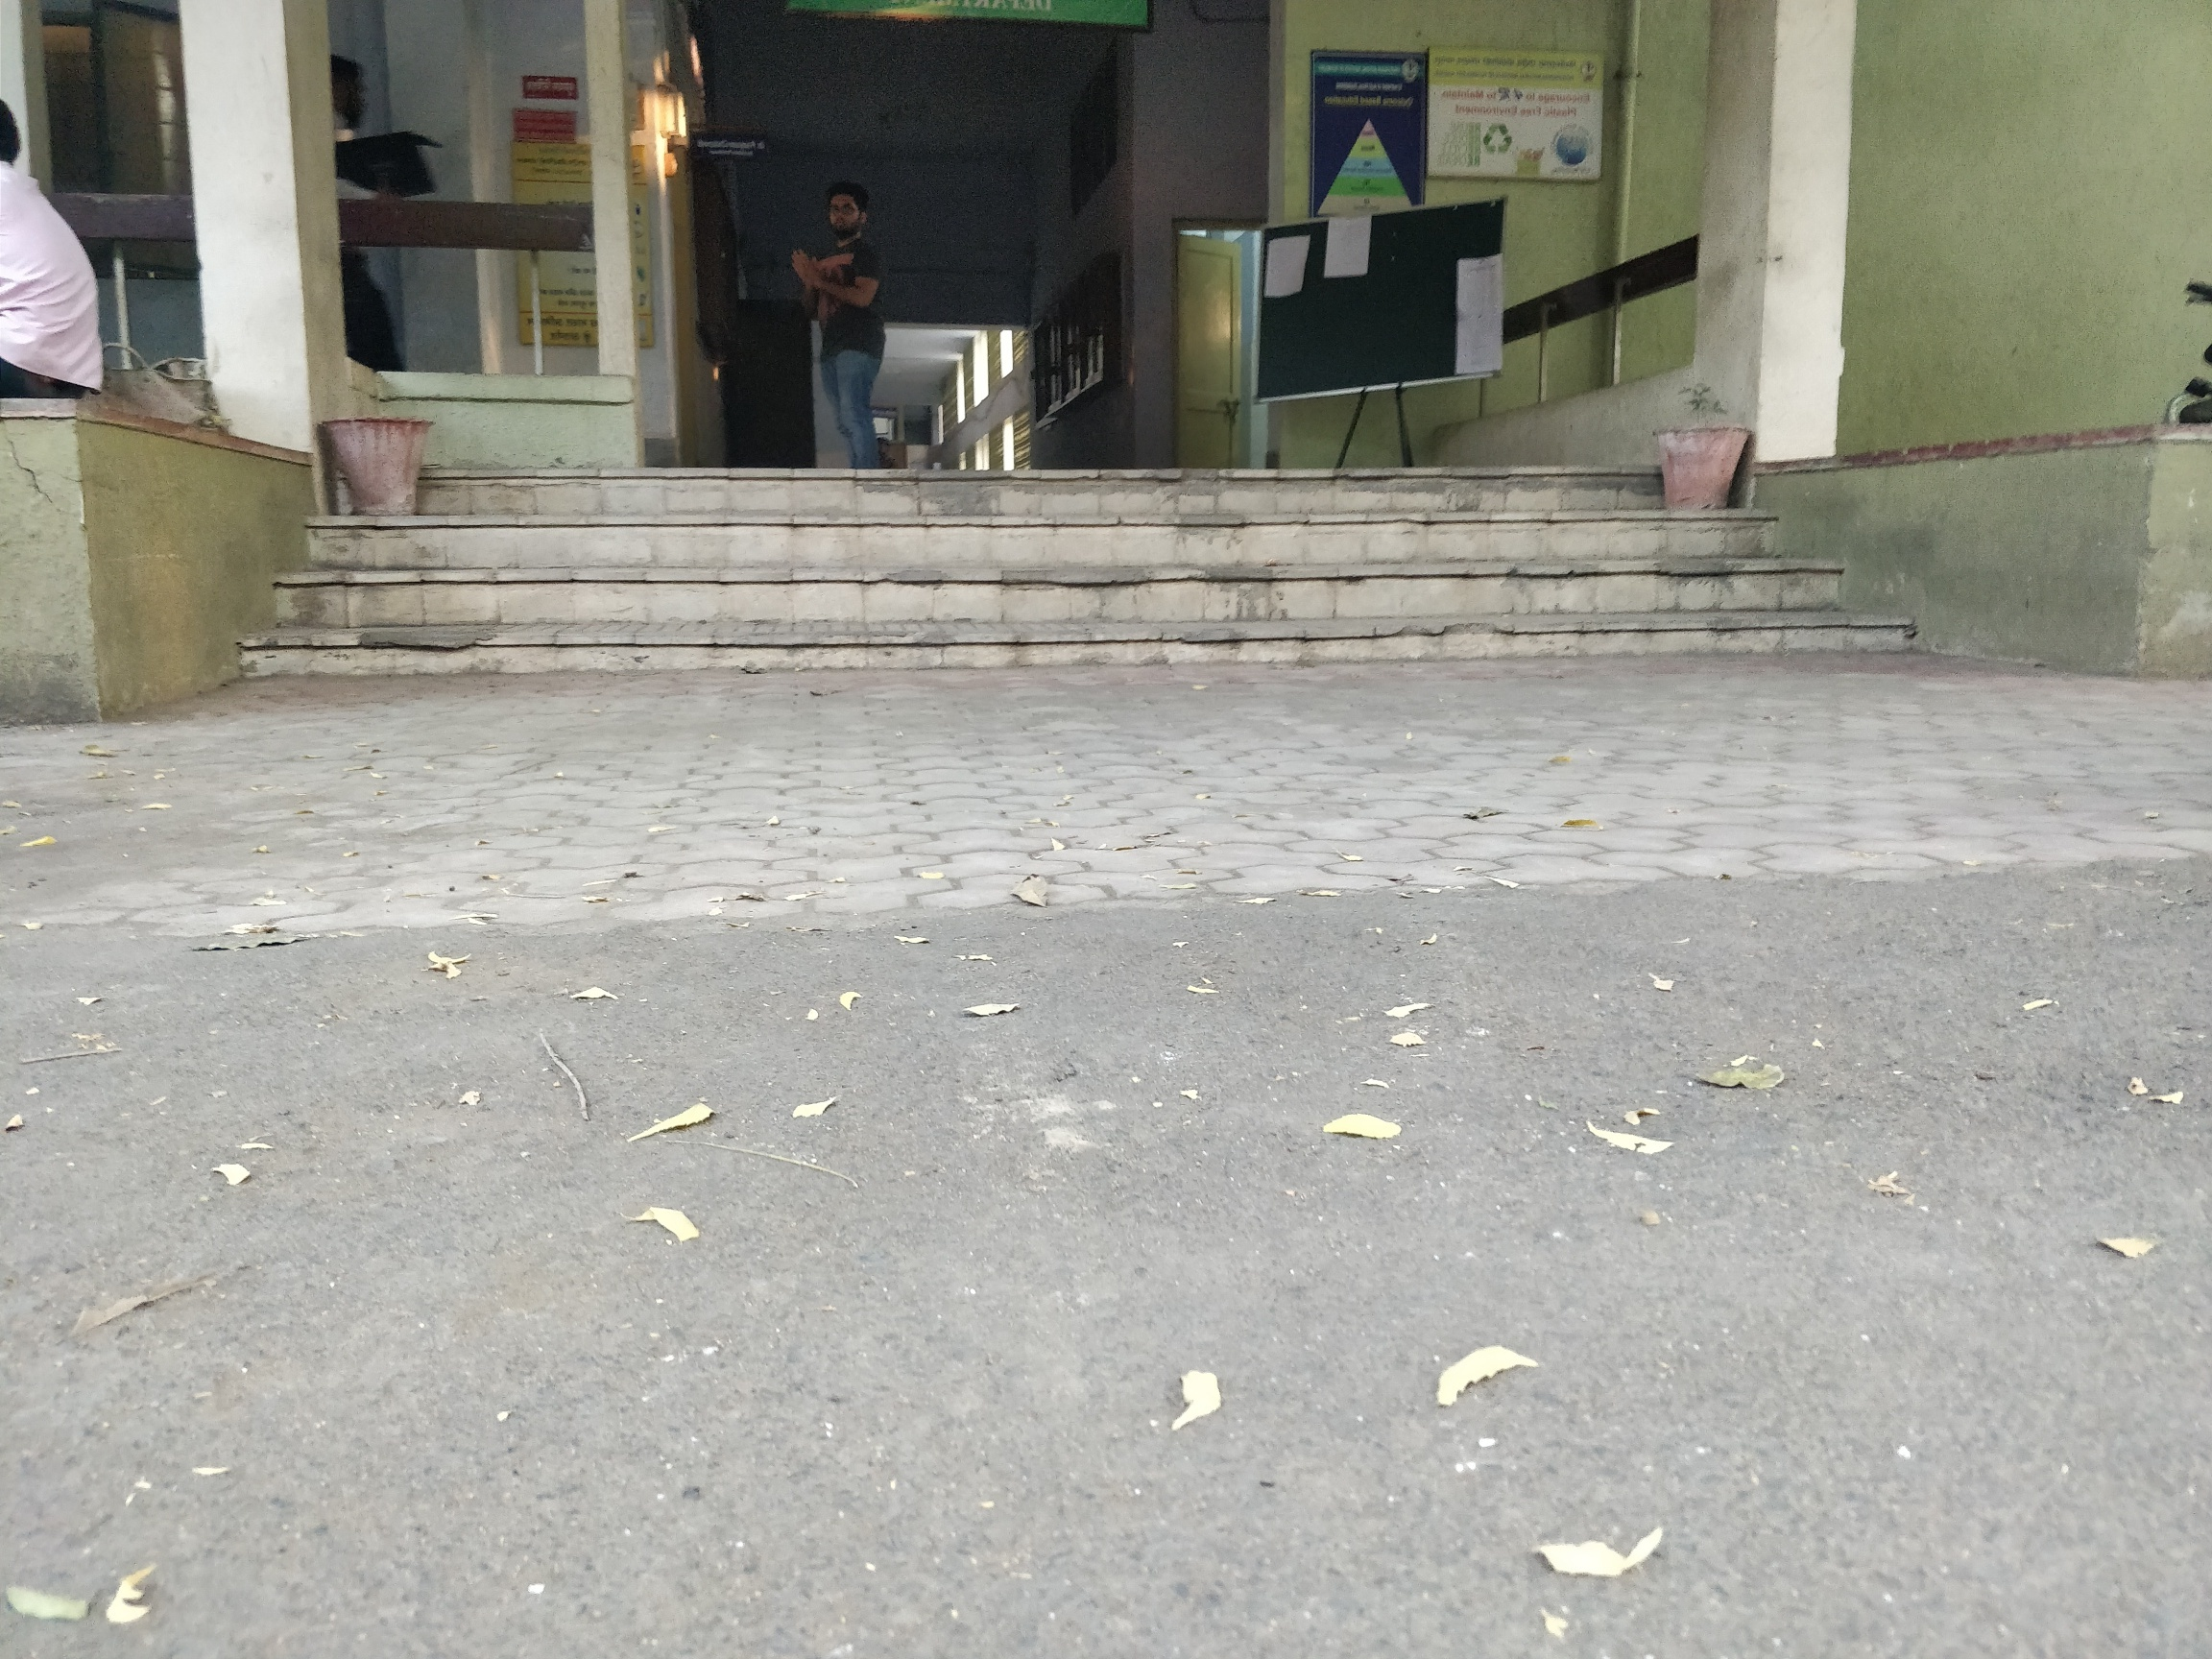stairs_up: (266, 451, 1811, 671)
